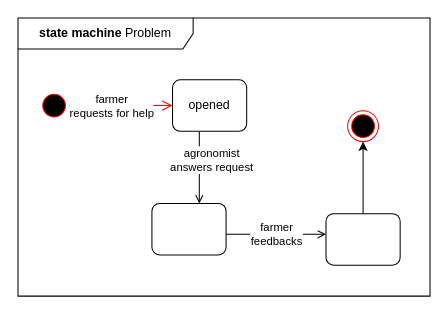
Image size: 448x314. Some labels were removed from this diagram. Each missing label, with the box of its shape:
closed: (325, 213, 400, 265)
processing: (151, 202, 226, 255)
